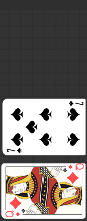7C: (67, 100, 84, 108)
9D: (4, 210, 21, 219)
